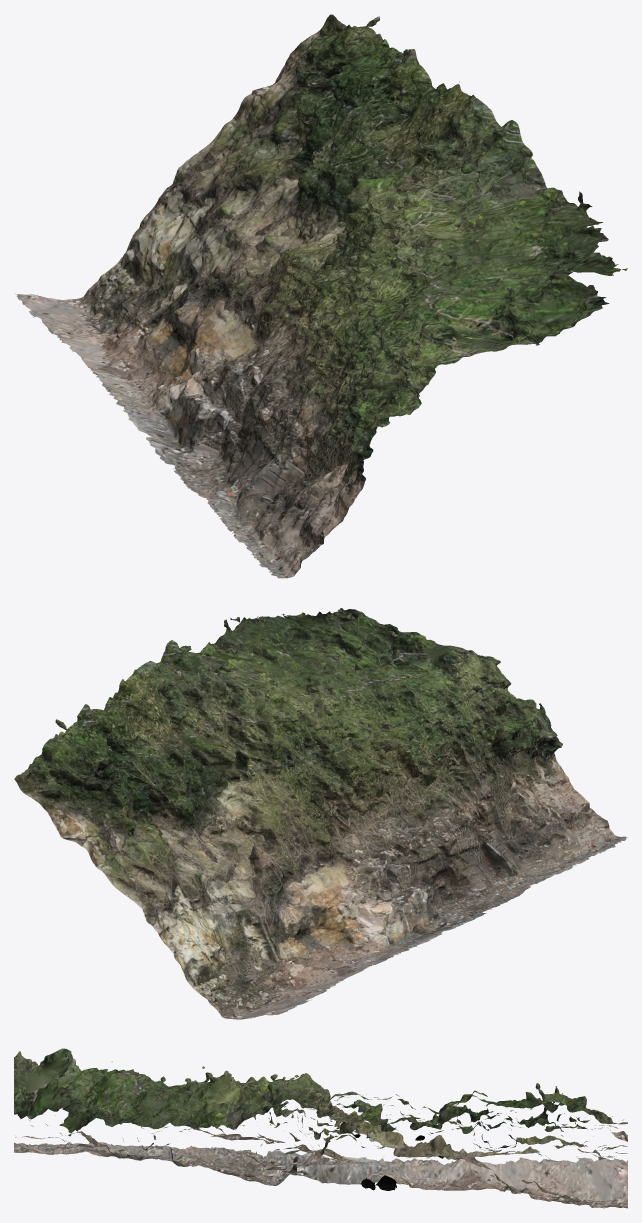
The picture shows the model from 3 angles, top to bottom: view 1: azimuth 30°, elevation 25°; view 2: azimuth 150°, elevation 25°; view 3: azimuth 270°, elevation 25°; orthographic projection. The views are drawn at different scales.
Size of the model in its own units: 6.77 by 4.36 by 10.11.
3 materials, 3 textured.
